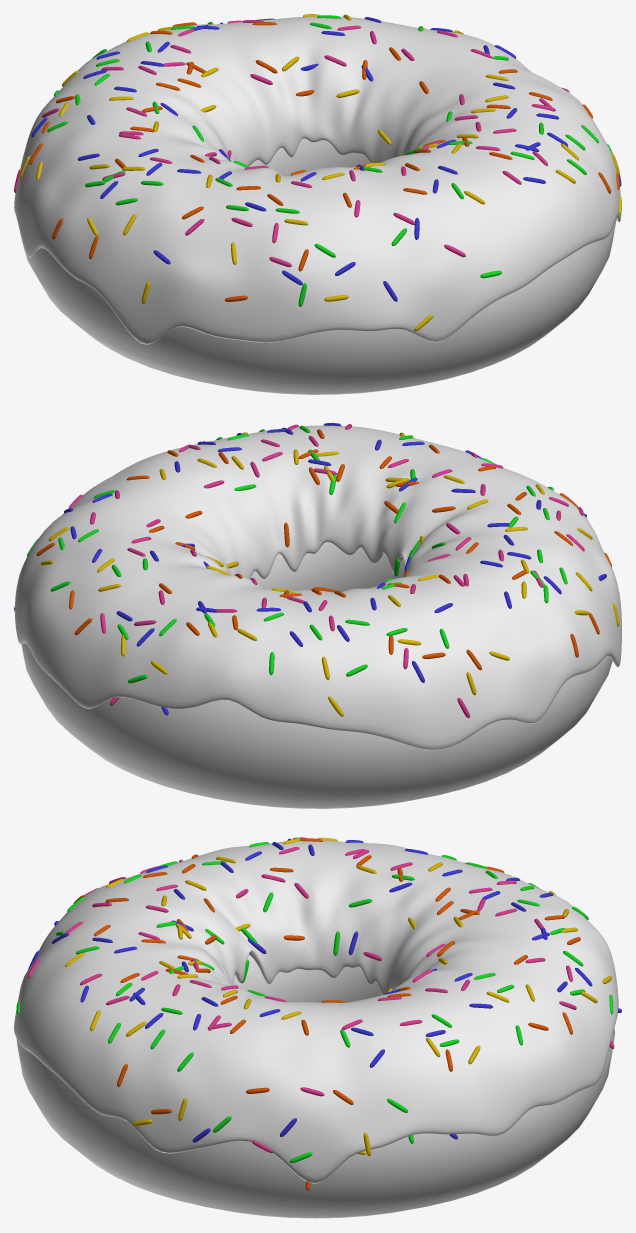
File: Donuts.fbx
The picture shows the model from 3 angles, top to bottom: view 1: azimuth 30°, elevation 25°; view 2: azimuth 150°, elevation 25°; view 3: azimuth 270°, elevation 25°; orthographic projection.
Parts seen in each view (by area): view 1: Torus.001, Torus; view 2: Torus.001, Torus; view 3: Torus.001, Torus.
Boxes of the visible parts, x1=… form: Torus.001: x1=14, y1=16, x2=621, y2=344; Torus: x1=23, y1=68, x2=616, y2=394; Torus.001: x1=14, y1=425, x2=621, y2=749; Torus: x1=21, y1=500, x2=612, y2=808; Torus.001: x1=14, y1=840, x2=618, y2=1183; Torus: x1=16, y1=955, x2=614, y2=1218.
Size of the model in its own units: 217 by 78.23 by 217.
